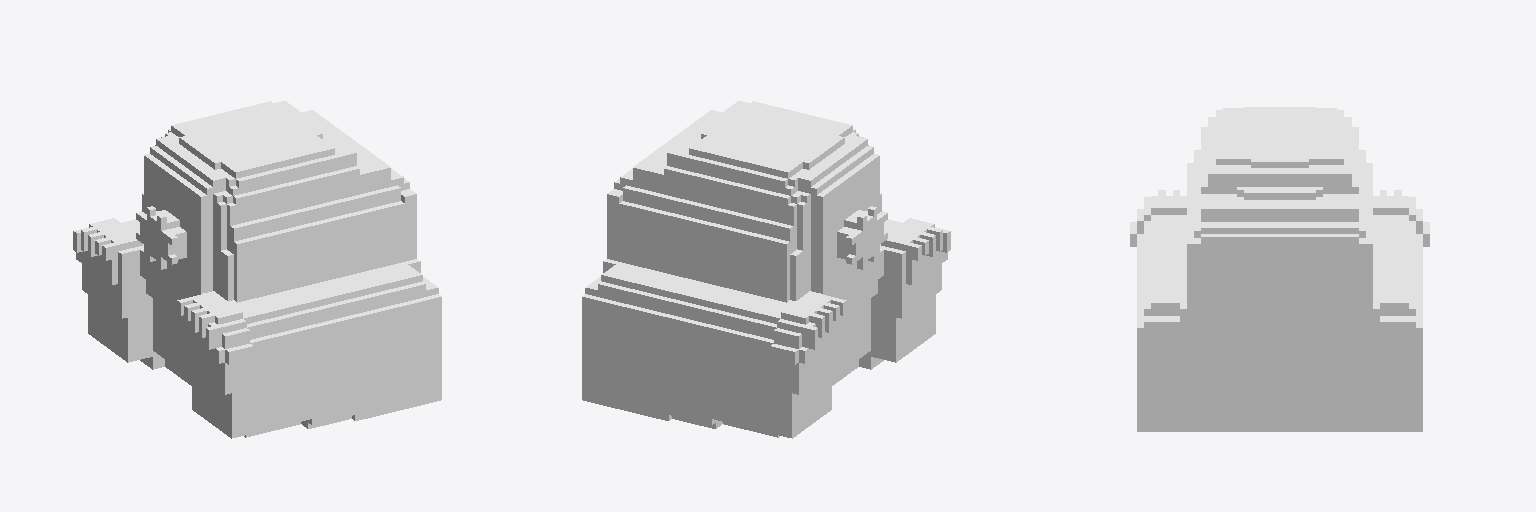
The model's file is mole.obj.
3 views of the same model, side by side, from view 1: azimuth 30°, elevation 25°; view 2: azimuth 150°, elevation 25°; view 3: azimuth 270°, elevation 25° (orthographic).
Visible parts, largest first — view 1: object 1; view 2: object 1; view 3: object 1.
Boxes of the visible parts, x1=… form: object 1: x1=73, y1=101, x2=441, y2=438; object 1: x1=582, y1=101, x2=950, y2=438; object 1: x1=1130, y1=107, x2=1429, y2=431.
Size of the model in its own units: 3.7 by 3.7 by 4.2.